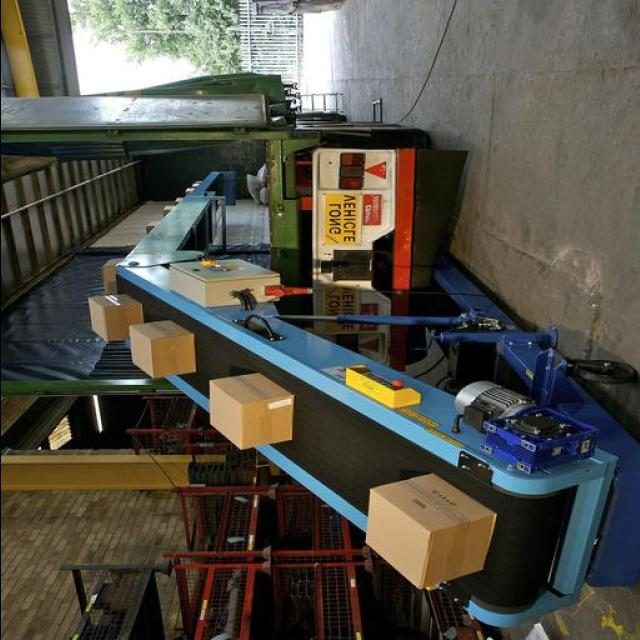conveyor: (111, 268, 574, 622)
